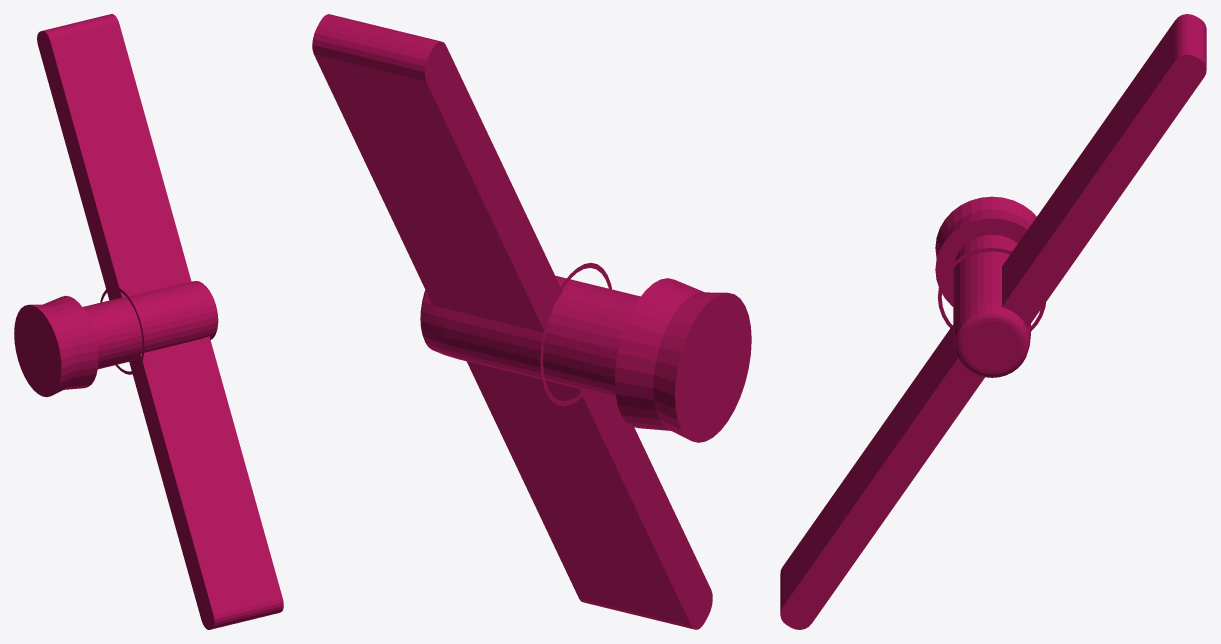
File: serofan.obj
3 views of the same model, side by side, from view 1: azimuth 30°, elevation 25°; view 2: azimuth 150°, elevation 25°; view 3: azimuth 270°, elevation 25° (orthographic). The views are drawn at different scales.
Visible parts, largest first — view 1: Cylinder.001; view 2: Cylinder.001; view 3: Cylinder.001.
Part boxes in pixels (x1,y1,x2,y2): Cylinder.001: [14, 14, 283, 629]; Cylinder.001: [312, 14, 751, 629]; Cylinder.001: [780, 14, 1206, 629].
Bounding box in the file's own units: 2.39 × 6.54 × 4.39.
